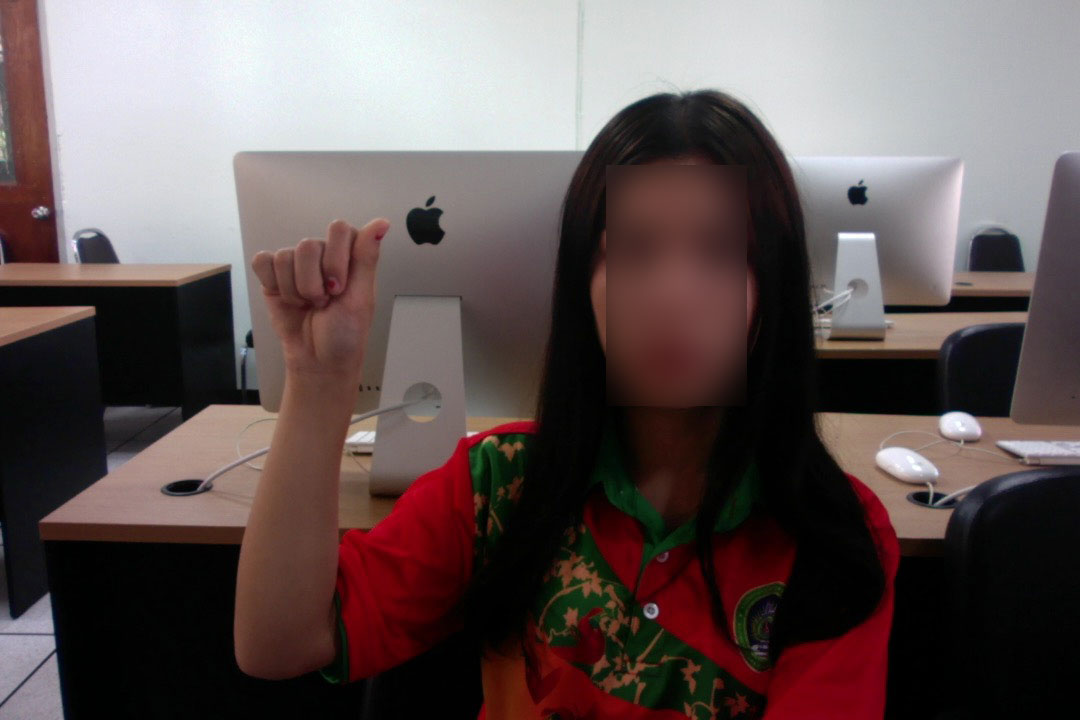or: (246, 209, 397, 389)
